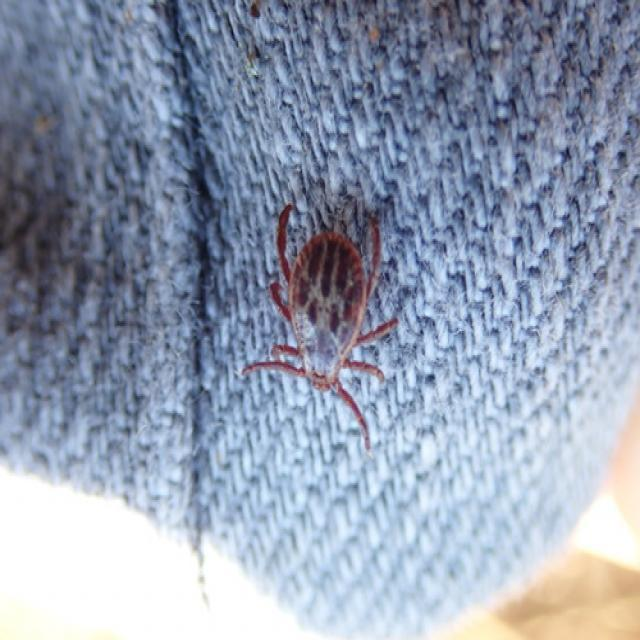Dermacentor Reticulatus-M: (241, 203, 398, 456)
